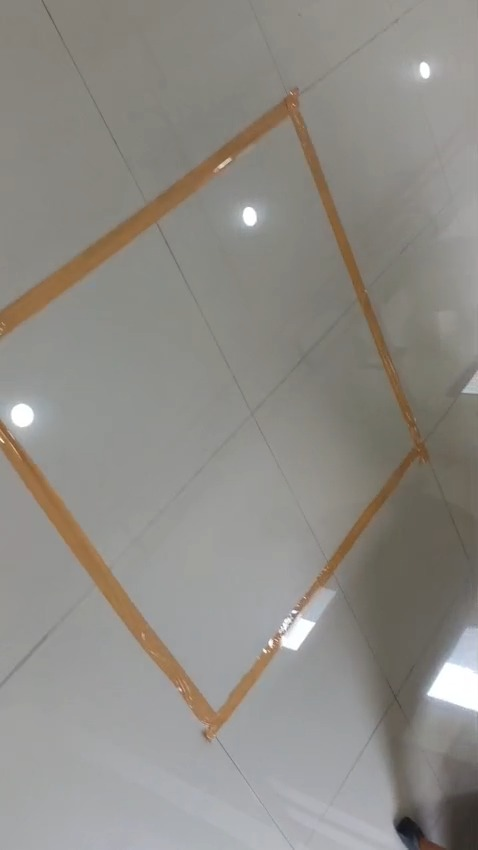floor marking: (0, 91, 428, 740)
